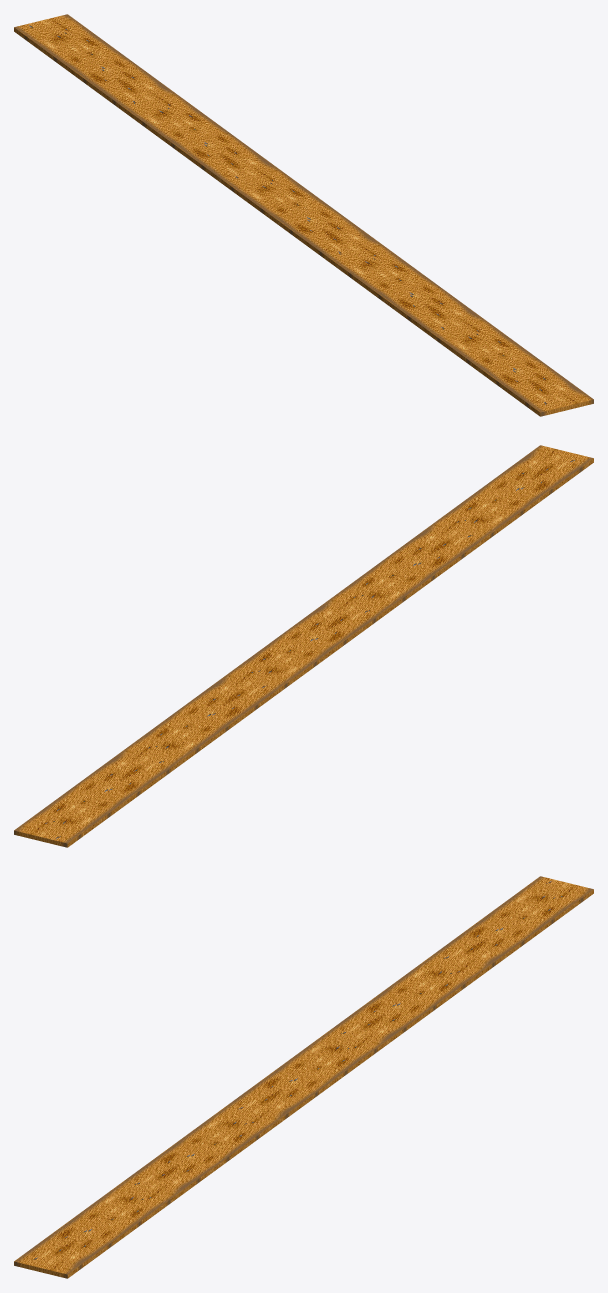
File: DRoad3.glb
3 views of the same model, one above another, from view 1: azimuth 30°, elevation 25°; view 2: azimuth 150°, elevation 25°; view 3: azimuth 330°, elevation 25° (orthographic).
Visible parts, largest first — view 1: DRoad3; view 2: DRoad3; view 3: DRoad3.
Boxes of the visible parts, x1,y1,x2,y2 form: DRoad3: (14, 14, 593, 416); DRoad3: (14, 445, 593, 847); DRoad3: (14, 876, 593, 1278).
Size of the model in its own units: 578 by 44 by 9824.
1 material, 1 textured.
